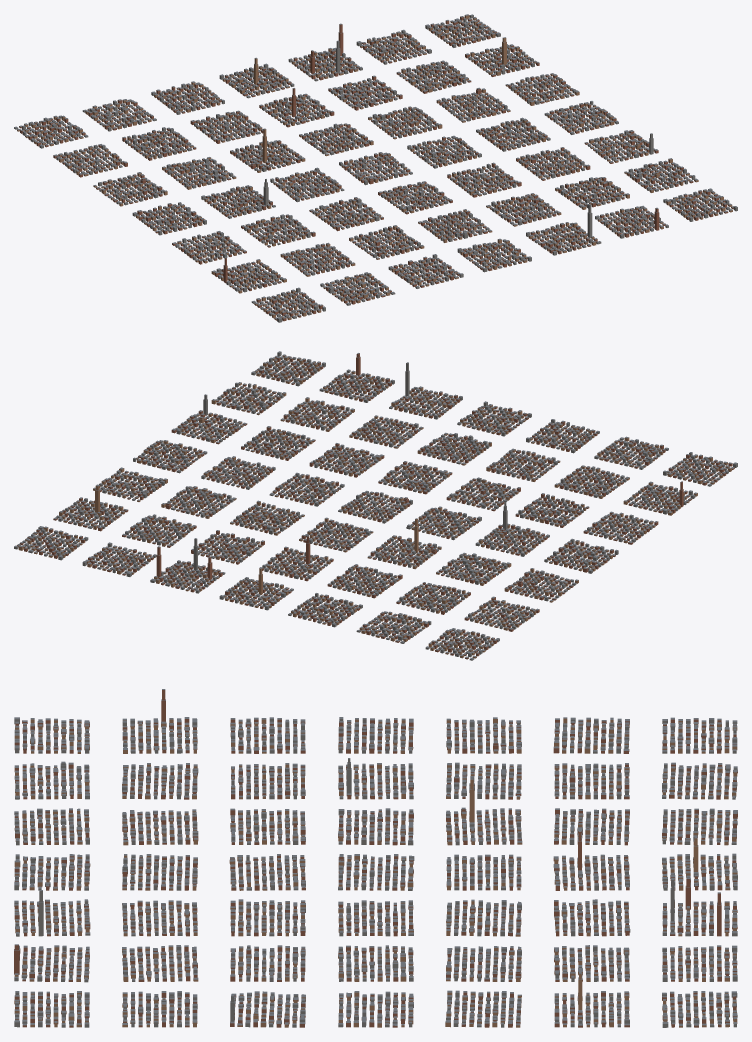
File: grid_dense_impostor.obj
3 renders of one model, top to bottom at view 1: azimuth 30°, elevation 25°; view 2: azimuth 150°, elevation 25°; view 3: azimuth 270°, elevation 25°, orthographic. The views are drawn at different scales.
Parts seen in each view (by area): view 1: grid_dense_impostor; view 2: grid_dense_impostor; view 3: grid_dense_impostor.
Boxes of the visible parts, <box> form: grid_dense_impostor: <box>14,14,737,322</box>; grid_dense_impostor: <box>14,351,737,660</box>; grid_dense_impostor: <box>14,689,737,1027</box>.
Bounding box in the file's own units: 2112 × 146 × 2112.
